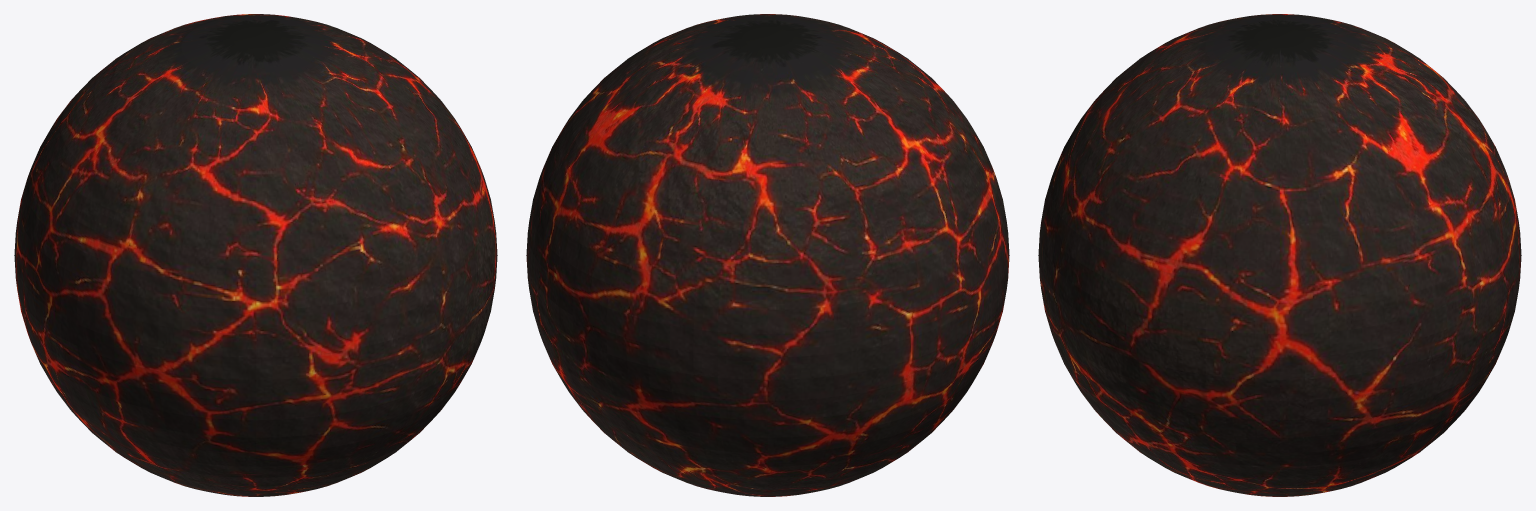
File: Lava.fbx
3 renders of one model, left to right at view 1: azimuth 30°, elevation 25°; view 2: azimuth 150°, elevation 25°; view 3: azimuth 270°, elevation 25°, orthographic.
Visible parts, largest first — view 1: Lava; view 2: Lava; view 3: Lava.
Part boxes in pixels (x1=…): Lava: x1=14, y1=14, x2=497, y2=496; Lava: x1=526, y1=14, x2=1009, y2=496; Lava: x1=1038, y1=14, x2=1521, y2=496.
Size of the model in its own units: 2202 by 2202 by 2202.
